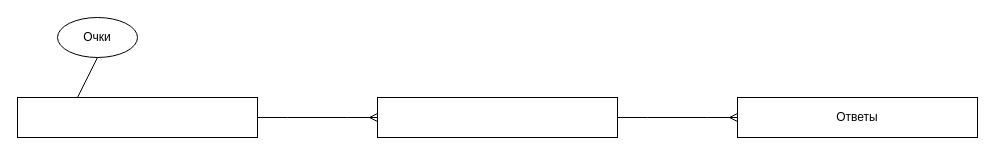
Some shapes in this 995 by 155 pixel diagram are drawn without their labels. The centre of each missing label's shape, as x and y in pixels:
Вопрос: pixel 497 117
Вопросы: pixel 137 117
